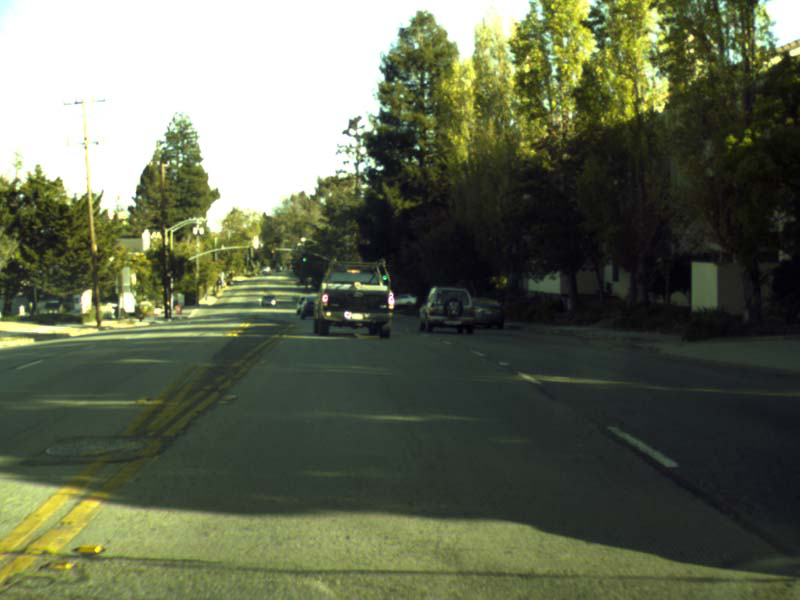Green: (301, 253, 307, 263), (382, 274, 387, 280)
Red: (270, 248, 274, 253)
